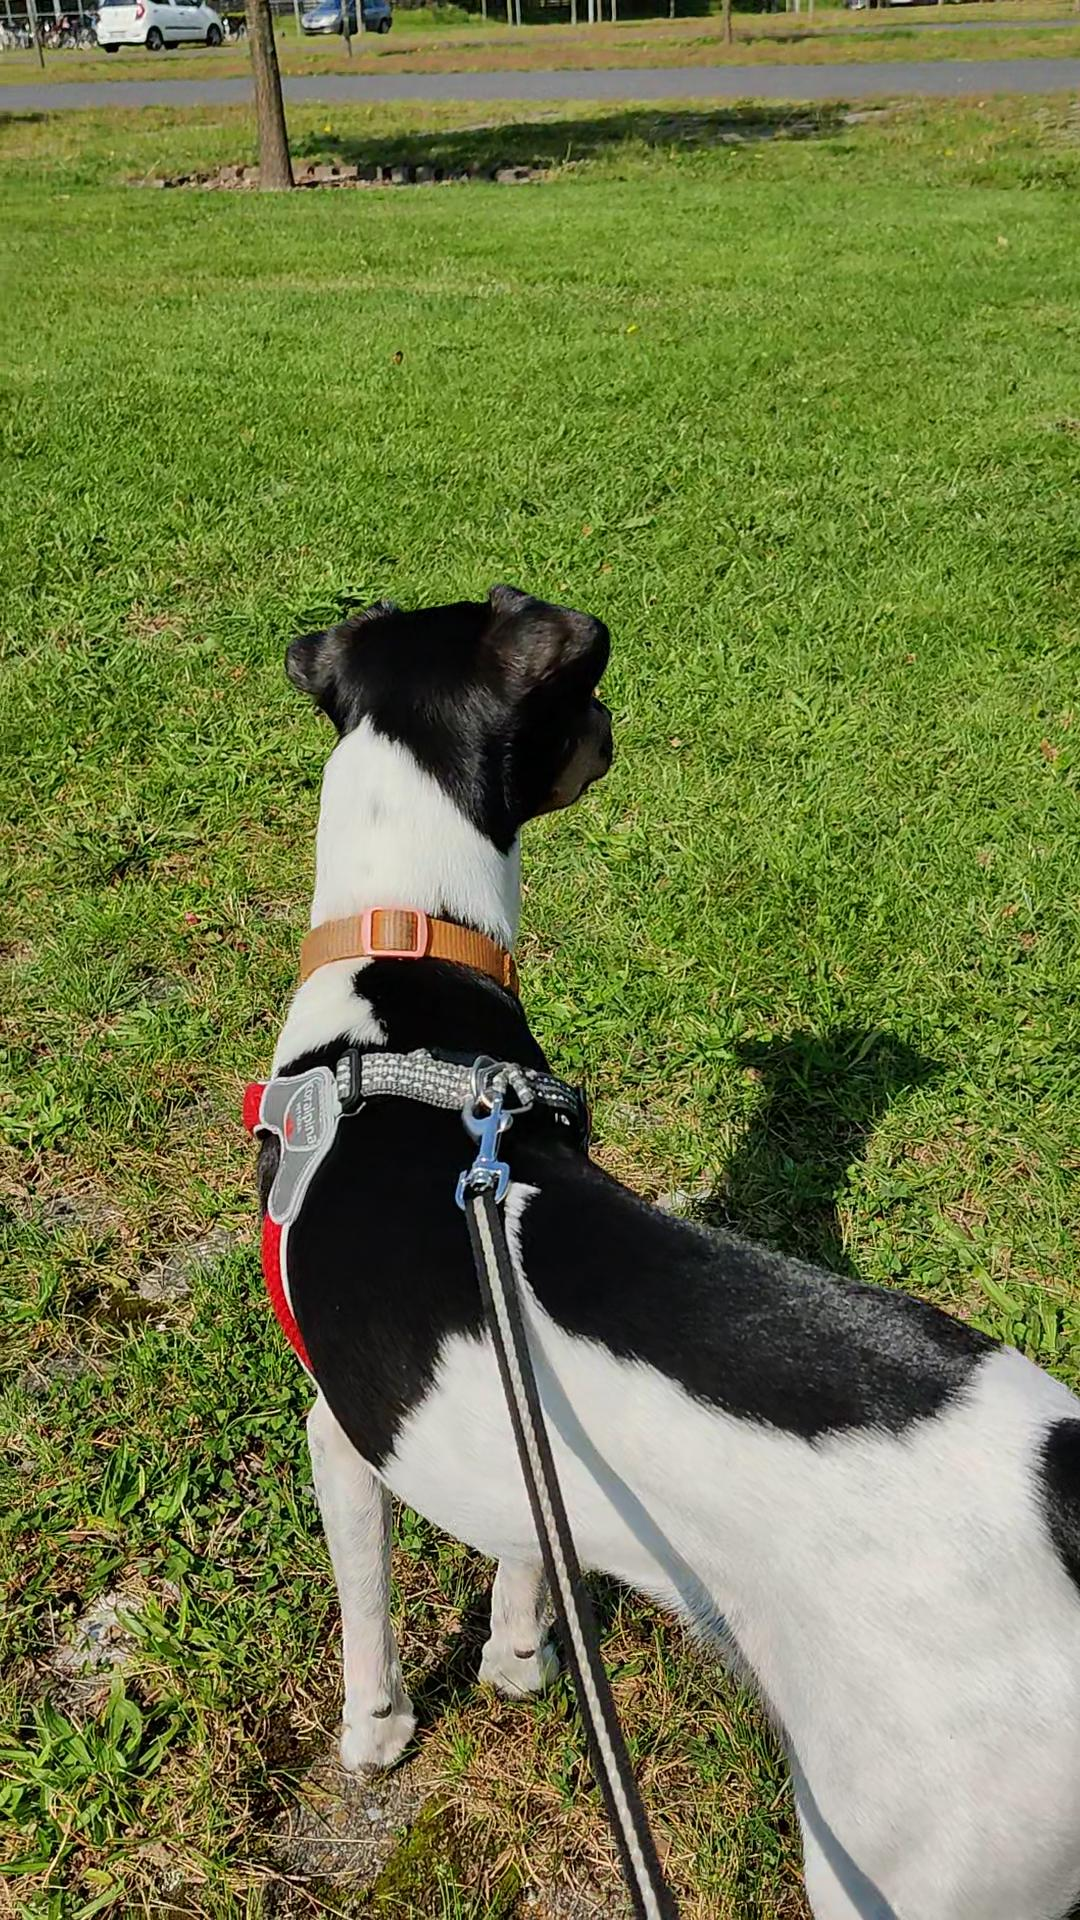Dog: (233, 554, 1079, 1919)
